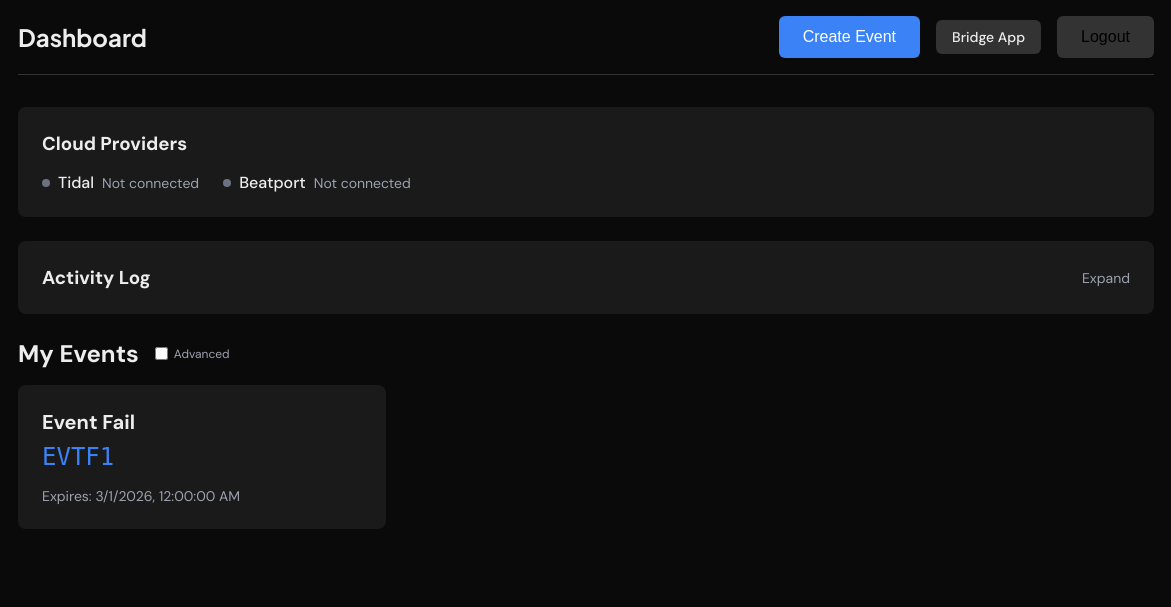
it: DashboardPage › shows error when bulk delete fails
Expected: the heading "Event Fail" is shown, x1=42 y1=409 x2=135 y2=435
Step 1. Click the checkbox labelled "Advanced" → (161, 354), box x1=155 y1=347 x2=168 y2=360
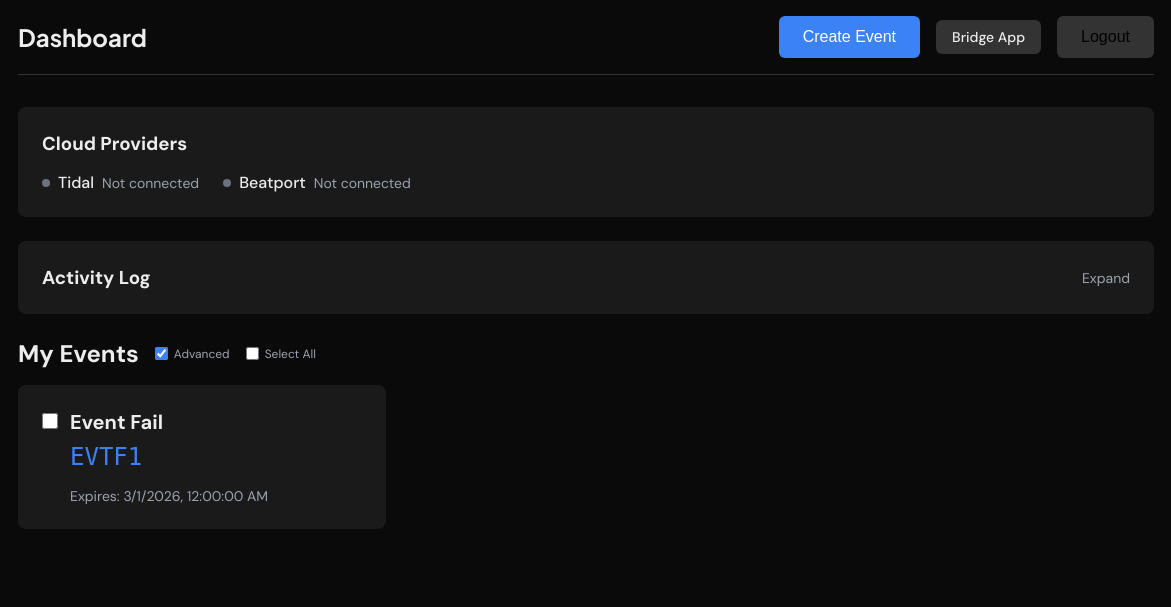
Step 2. Click the checkbox labelled "Select All" → (252, 354), box x1=246 y1=347 x2=259 y2=360
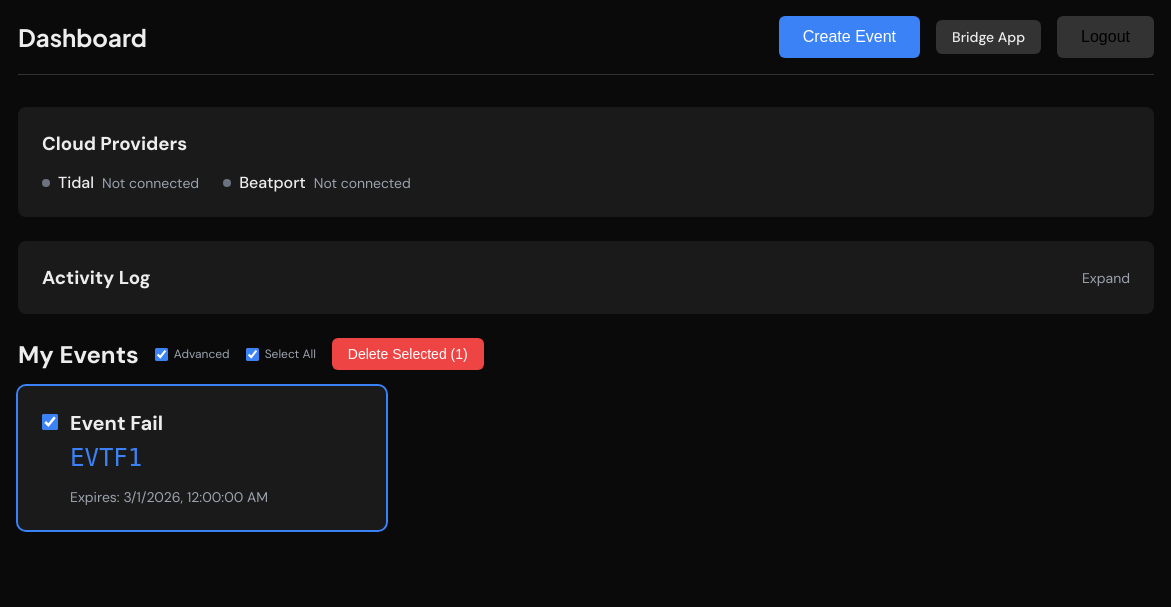
Now the button "Delete Selected (1)" is shown
Step 3. Click the button "Delete Selected (1)" → (408, 354), box x1=332 y1=338 x2=484 y2=370
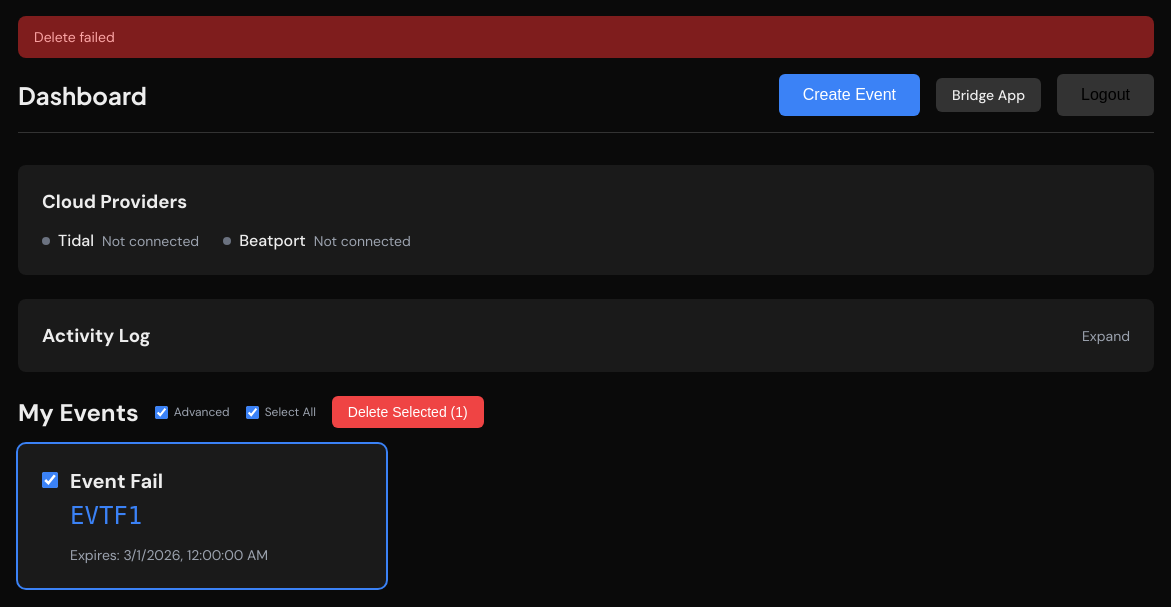
Now the text "Delete failed" is shown, box x1=18 y1=16 x2=1154 y2=58
